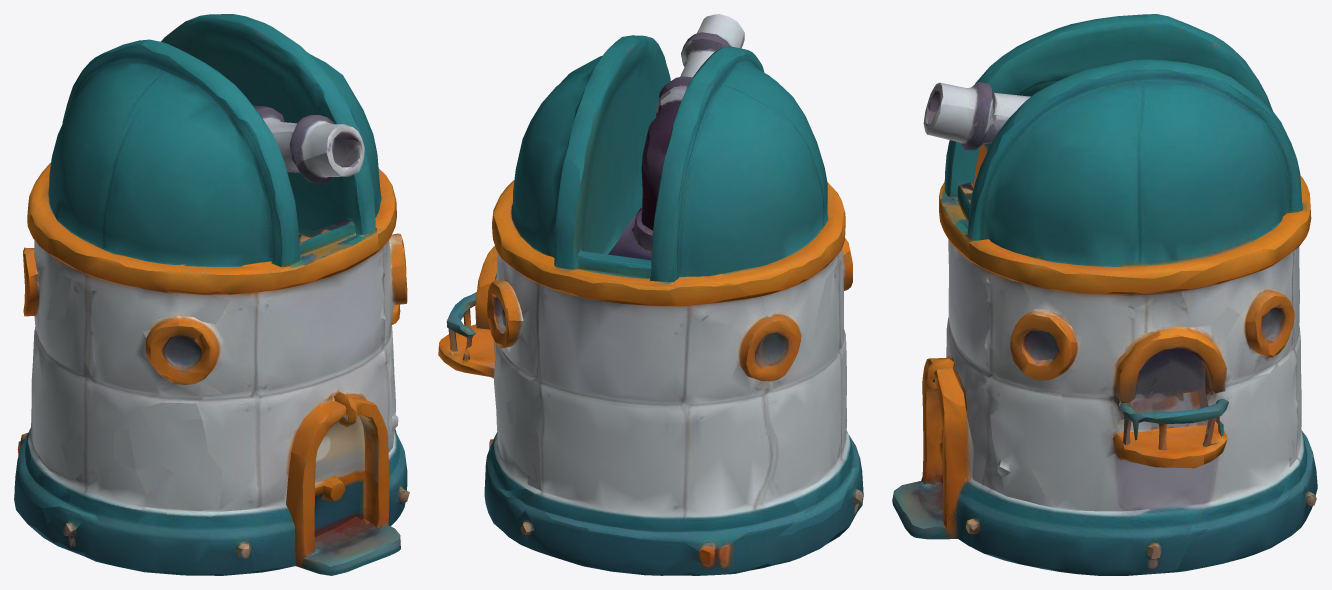
Rendered from observatory.glb.
3 renders of one model, left to right at view 1: azimuth 30°, elevation 25°; view 2: azimuth 150°, elevation 25°; view 3: azimuth 270°, elevation 25°, orthographic. The views are drawn at different scales.
Visible parts, largest first — view 1: observatory; view 2: observatory; view 3: observatory.
Boxes of the visible parts, left/top/right/bottom form: observatory: left=14, top=14, right=409, bottom=575; observatory: left=438, top=14, right=863, bottom=575; observatory: left=892, top=14, right=1317, bottom=575.
Size of the model in its own units: 0.8758 by 1 by 0.8414.
Materials: 1 (1 with a texture image).
